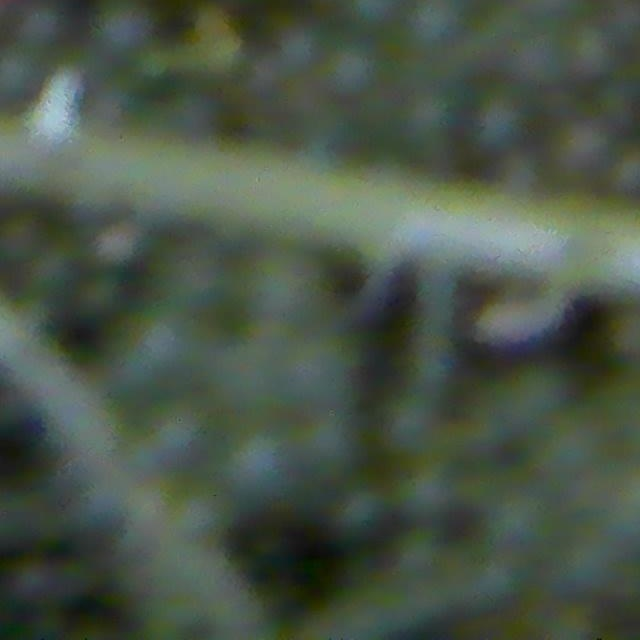SeaGrape: (223, 427, 299, 503), (393, 459, 462, 523), (380, 391, 444, 456), (294, 411, 359, 474), (470, 94, 534, 154), (319, 39, 382, 99), (396, 90, 459, 150), (95, 0, 158, 58), (10, 0, 73, 56), (400, 0, 463, 55), (327, 480, 385, 536), (0, 48, 37, 101)
